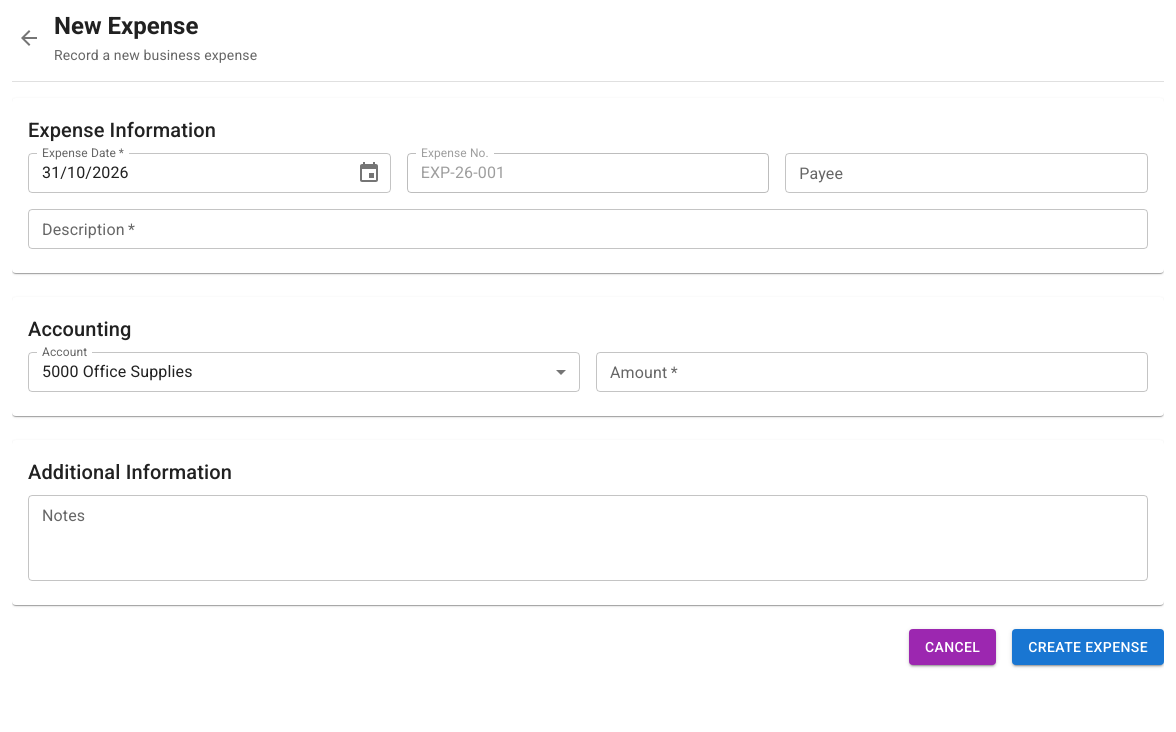
Test: ExpenseFormPage - Create mode › shows validation error for zero amount on submit
In the field labelled "Description *": (588, 229) [28,209,1148,249], type "Test expense"
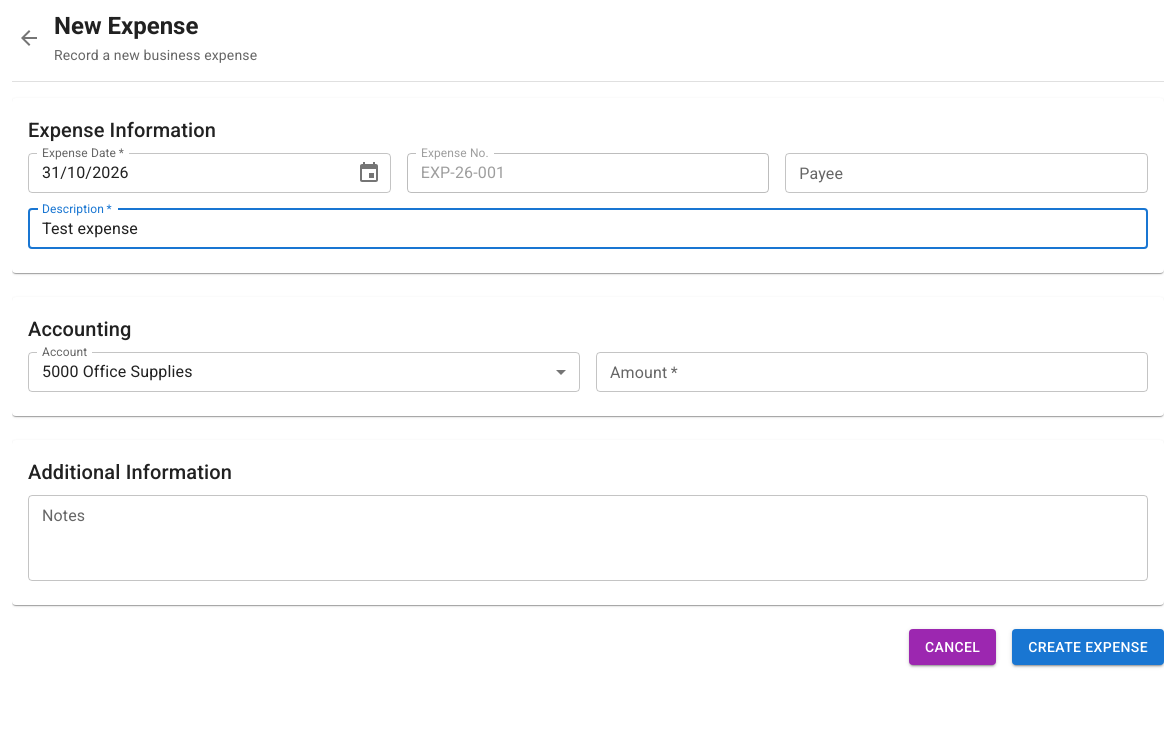
Click the dropdown named "account": (117, 372) [42,362,193,381]
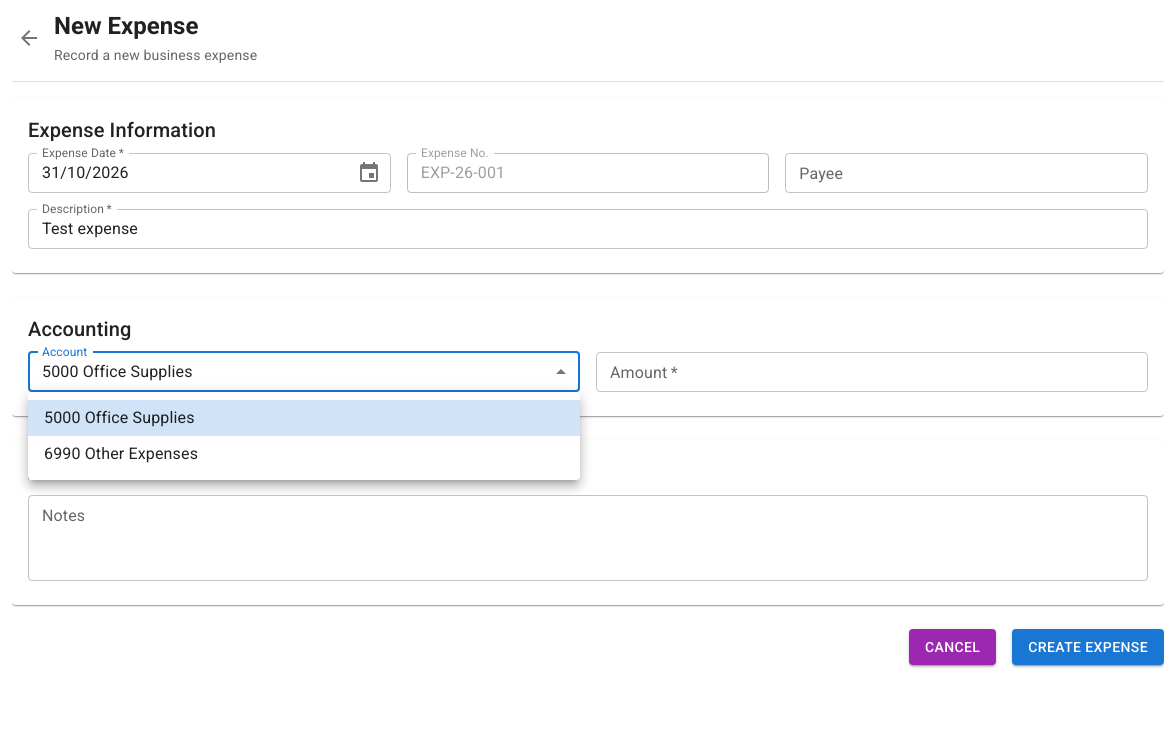
Click the option "5000 Office Supplies": (119, 418) [28,400,580,436]
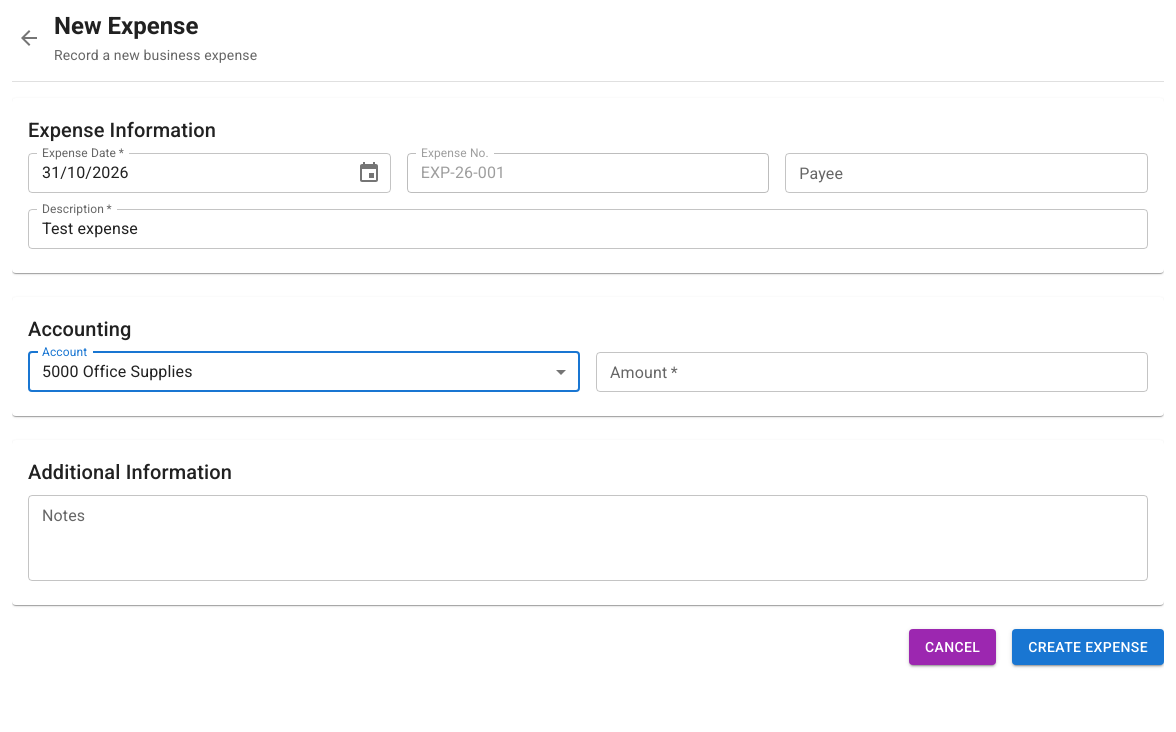
In the field labelled "Amount *": (872, 372) [596,352,1148,392], type "0"
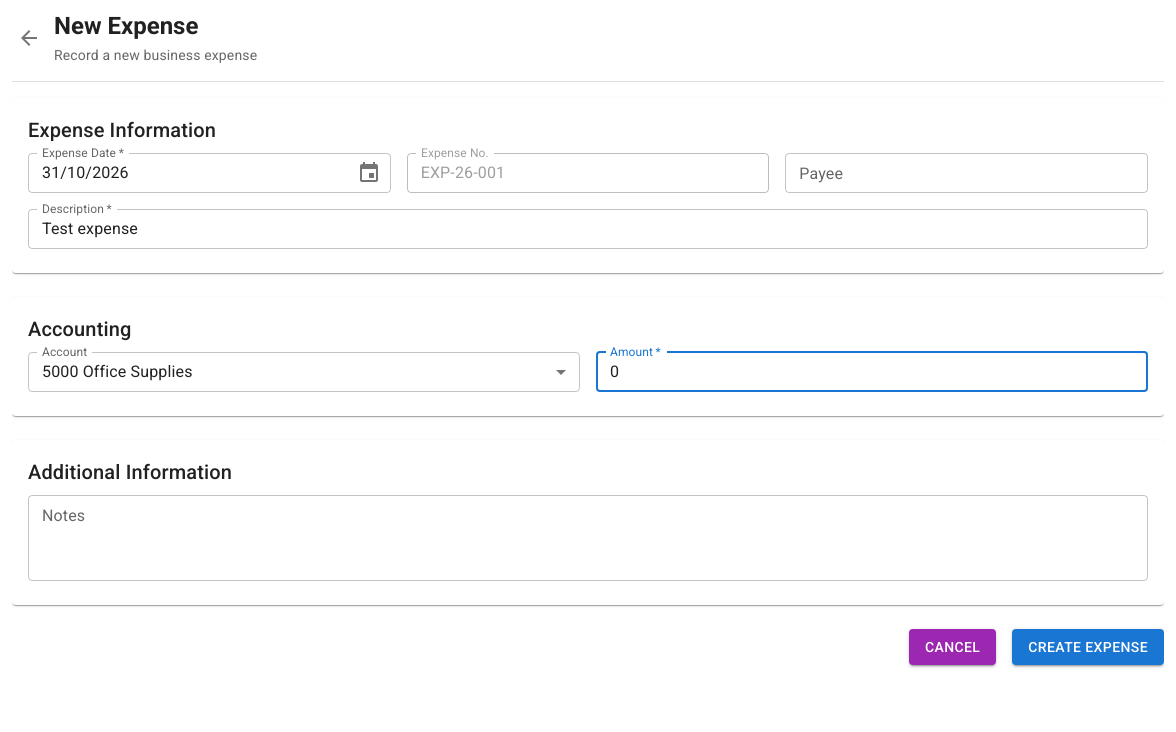
Click the button "Create Expense": (1088, 647) [1012,629,1164,665]
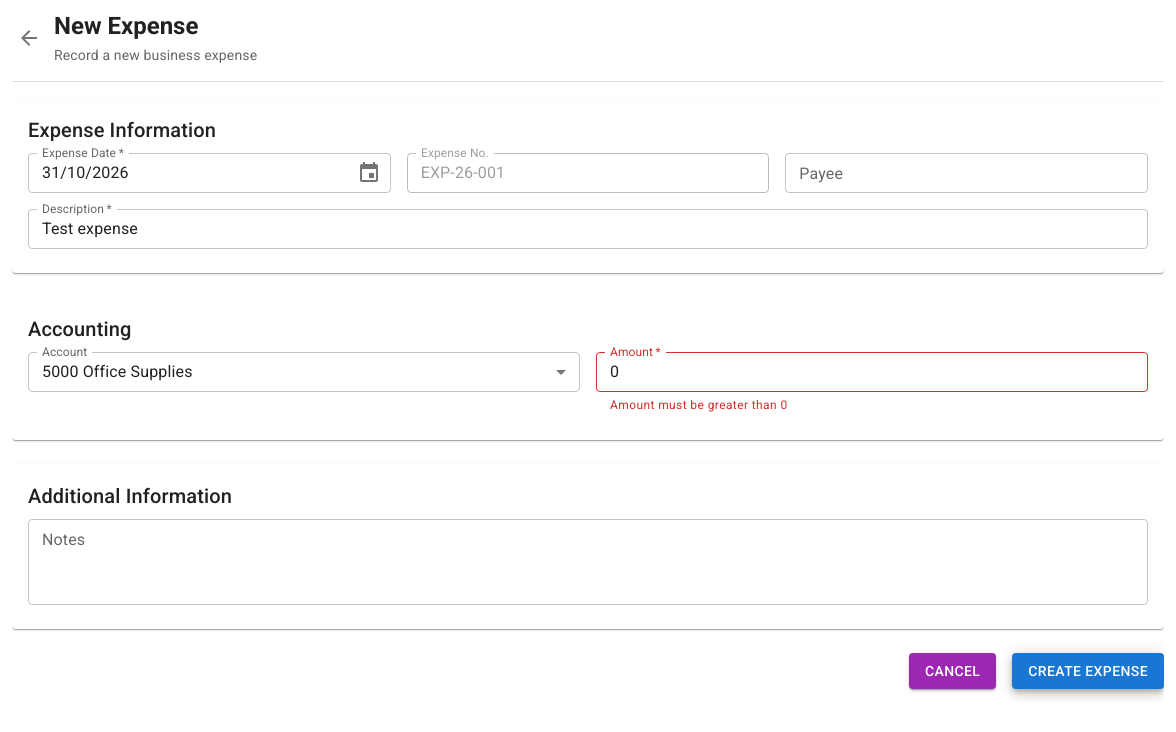
Expected: the text "Amount must be greater than 0" is shown, [610,398,788,412]
